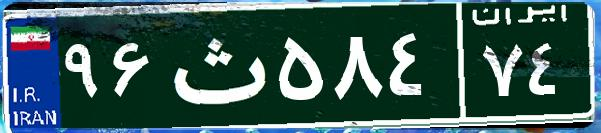4: (385, 28, 445, 110), (525, 38, 570, 115)
5: (273, 28, 330, 110)
6: (110, 28, 158, 105)
7: (475, 38, 525, 113)
8: (330, 28, 385, 110)
9: (57, 26, 110, 107)
ث: (158, 15, 273, 115)
